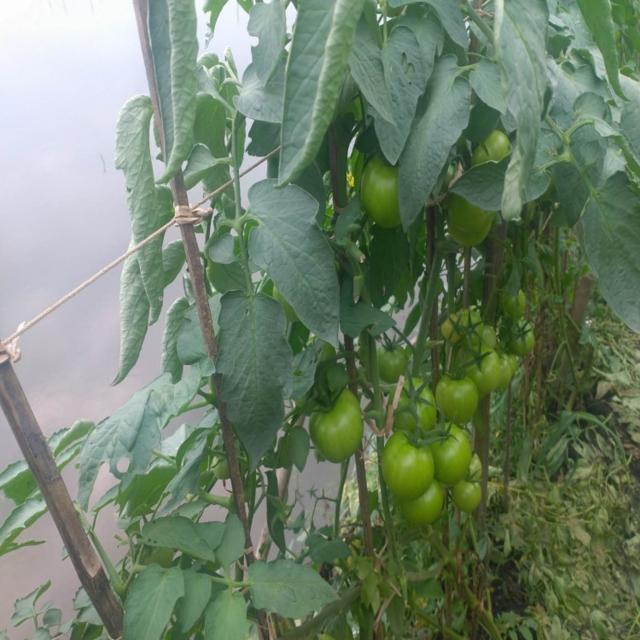tomato: (382, 435, 436, 501), (313, 393, 363, 463), (361, 157, 402, 224), (430, 425, 472, 481), (446, 205, 496, 248), (402, 479, 445, 524), (439, 376, 477, 425), (395, 386, 435, 432), (463, 347, 501, 391), (451, 472, 485, 512), (470, 138, 515, 167), (512, 314, 541, 358), (378, 339, 402, 382), (459, 313, 489, 344), (496, 357, 519, 393), (476, 326, 504, 346), (447, 316, 462, 342)
